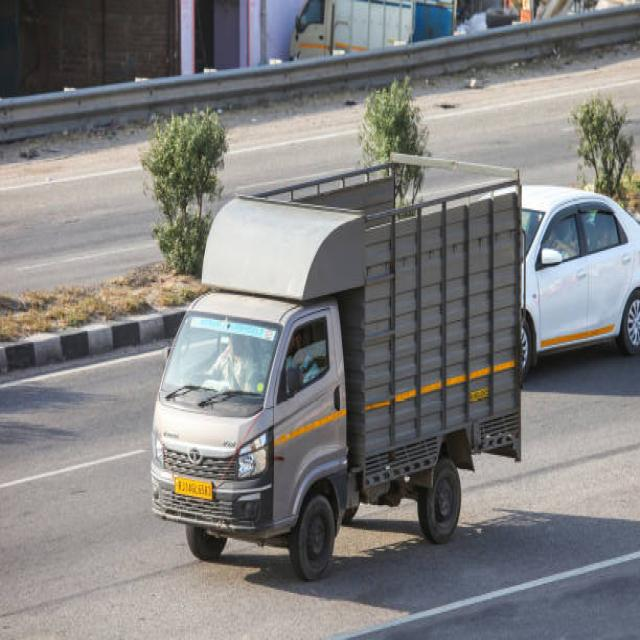Vehicles: (135, 137, 548, 619), (505, 152, 640, 405)
